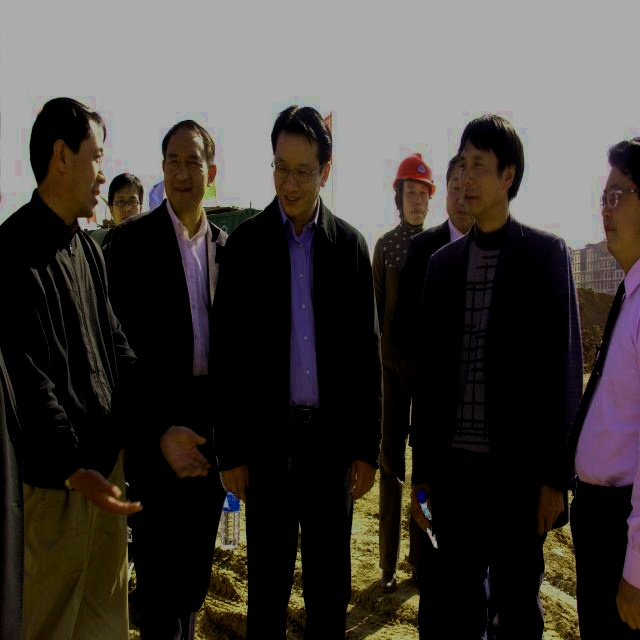Sin_Casco_Mascarrilla: (29, 97, 105, 212), (459, 115, 525, 217), (270, 104, 333, 207), (161, 119, 216, 207)
